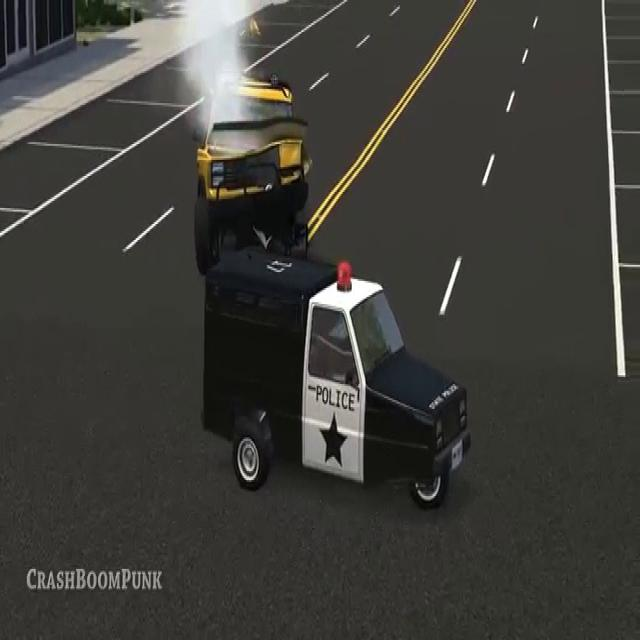accident: (190, 55, 468, 512)
